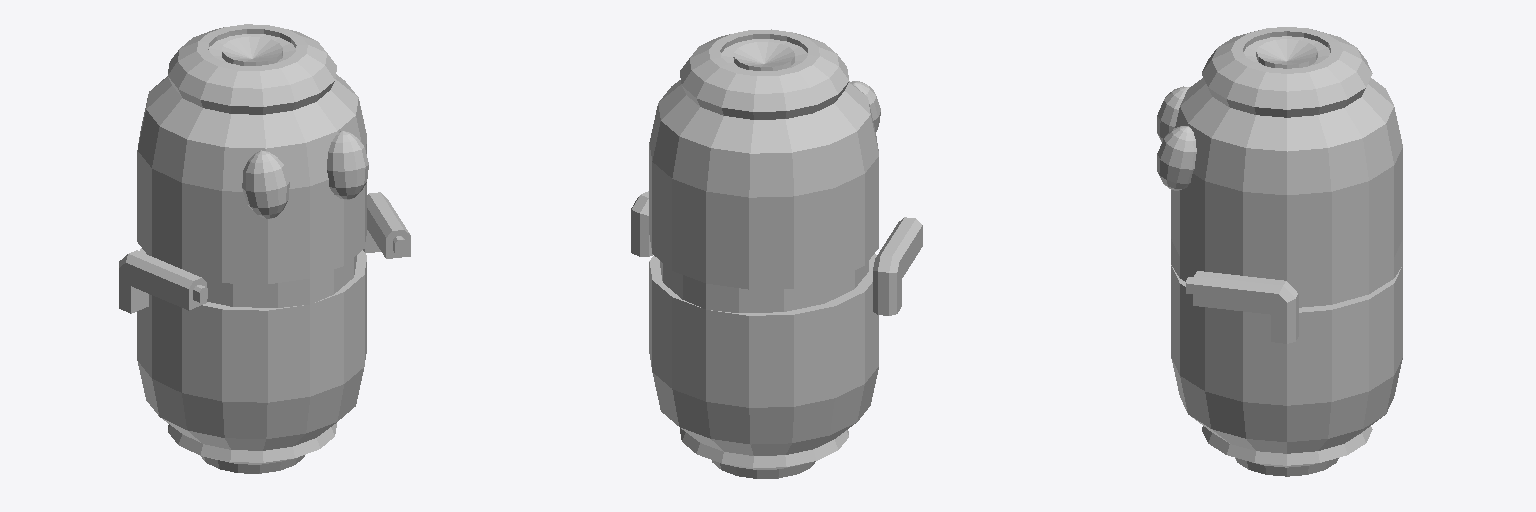
File: Player.obj
3 renders of one model, left to right at view 1: azimuth 30°, elevation 25°; view 2: azimuth 150°, elevation 25°; view 3: azimuth 270°, elevation 25°, orthographic.
Visible parts, largest first — view 1: Player_Sphere; view 2: Player_Sphere; view 3: Player_Sphere.
Part boxes in pixels (left/top/right/bottom): Player_Sphere: left=119, top=24, right=410, bottom=473; Player_Sphere: left=631, top=29, right=922, bottom=478; Player_Sphere: left=1157, top=27, right=1402, bottom=476.
Bounding box in the file's own units: 0.9921 × 1.47 × 0.7961.